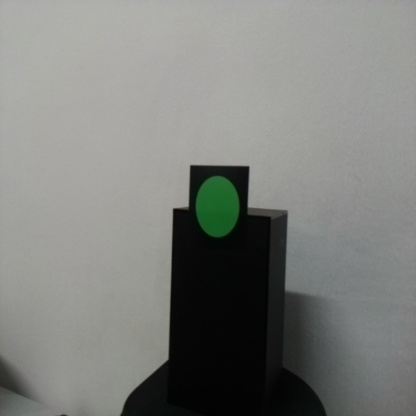id_5: (189, 166, 249, 251)
